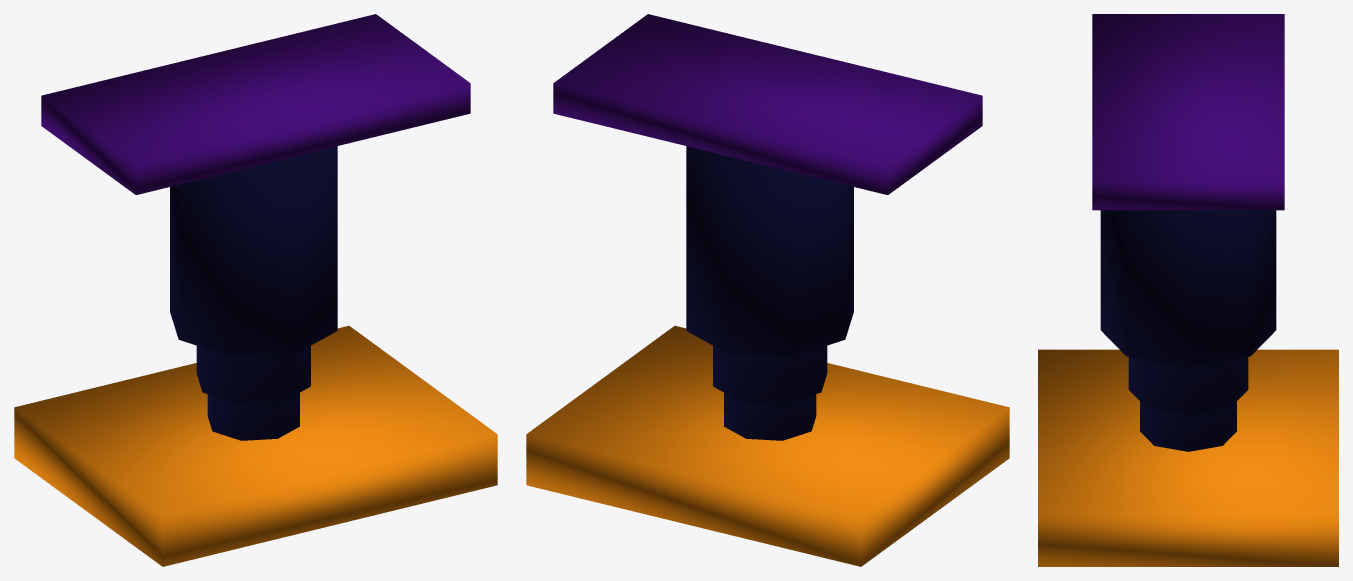
The model's file is Press_01.fbx.
3 renders of one model, left to right at view 1: azimuth 30°, elevation 25°; view 2: azimuth 150°, elevation 25°; view 3: azimuth 270°, elevation 25°, orthographic.
Visible parts, largest first — view 1: Cube.018; view 2: Cube.018; view 3: Cube.018.
Boxes of the visible parts, left/top/right/bottom form: Cube.018: left=14, top=14, right=497, bottom=566; Cube.018: left=526, top=14, right=1009, bottom=566; Cube.018: left=1038, top=14, right=1338, bottom=566.
Size of the model in its own units: 80.22 by 87.52 by 61.59.
